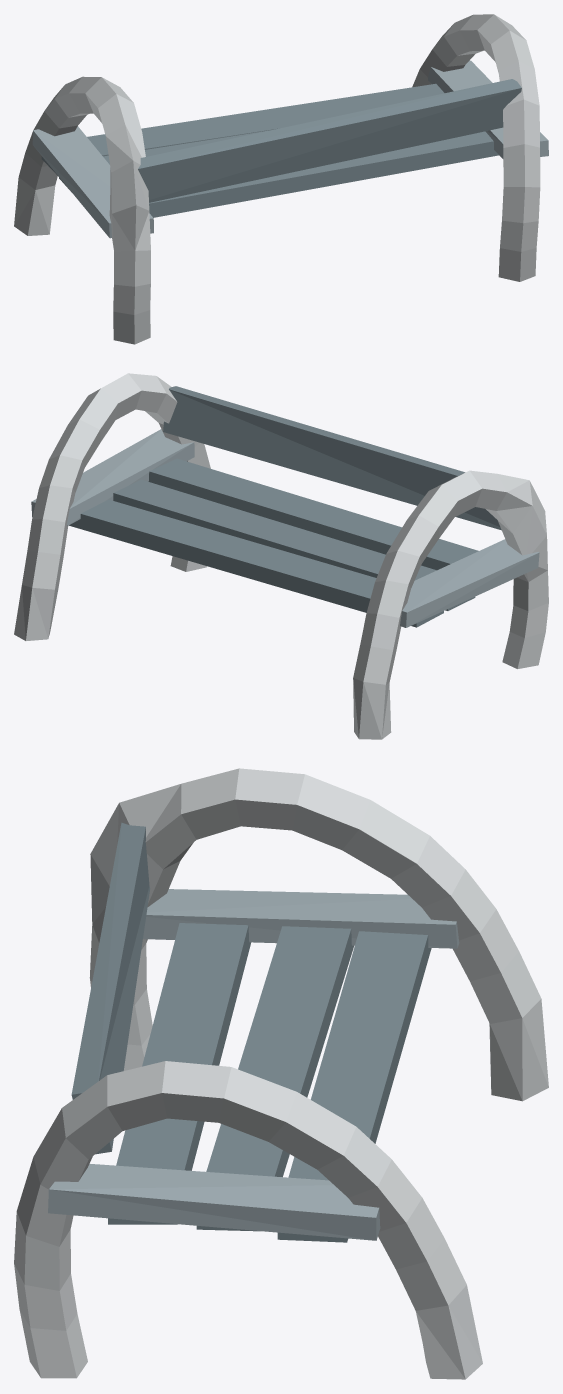
Rendered from ParkBank.fbx.
3 renders of one model, top to bottom at view 1: azimuth 30°, elevation 25°; view 2: azimuth 150°, elevation 25°; view 3: azimuth 270°, elevation 25°, orthographic. The views are drawn at different scales.
Visible parts, largest first — view 1: mesh_1985747188, group_197416398, group_2122782813, mesh_1604310674, mesh_960687897, mesh_1242390395, mesh_1998446306, mesh_326097305; view 2: group_197416398, mesh_1985747188, group_2122782813, mesh_960687897, mesh_1604310674, mesh_326097305, mesh_1242390395, mesh_1998446306; view 3: group_2122782813, group_197416398, mesh_1998446306, mesh_960687897, mesh_326097305, mesh_1604310674, mesh_1242390395, mesh_1985747188.
Boxes of the visible parts, x1,y1,x2,y2 form: mesh_1985747188: (138,79,521,202); group_197416398: (14,76,150,344); group_2122782813: (412,14,540,281); mesh_1604310674: (149,131,498,217); mesh_960687897: (41,83,444,176); mesh_1242390395: (32,126,153,238); mesh_1998446306: (428,60,548,158); mesh_326097305: (59,130,269,192); group_197416398: (353,470,548,739); mesh_1985747188: (163,386,501,530); group_2122782813: (14,373,210,640); mesh_960687897: (69,499,443,627); mesh_1604310674: (148,458,478,570); mesh_326097305: (113,479,475,610); mesh_1242390395: (400,539,539,627); mesh_1998446306: (31,429,194,525); group_2122782813: (14,1061,482,1379); group_197416398: (89,768,548,1101); mesh_1998446306: (48,1164,380,1240); mesh_960687897: (277,931,431,1242); mesh_326097305: (196,926,353,1231); mesh_1604310674: (108,923,251,1224); mesh_1242390395: (143,889,459,948); mesh_1985747188: (71,822,150,1154).
Bounding box in the file's own units: 89.72 × 43.17 × 61.14.
